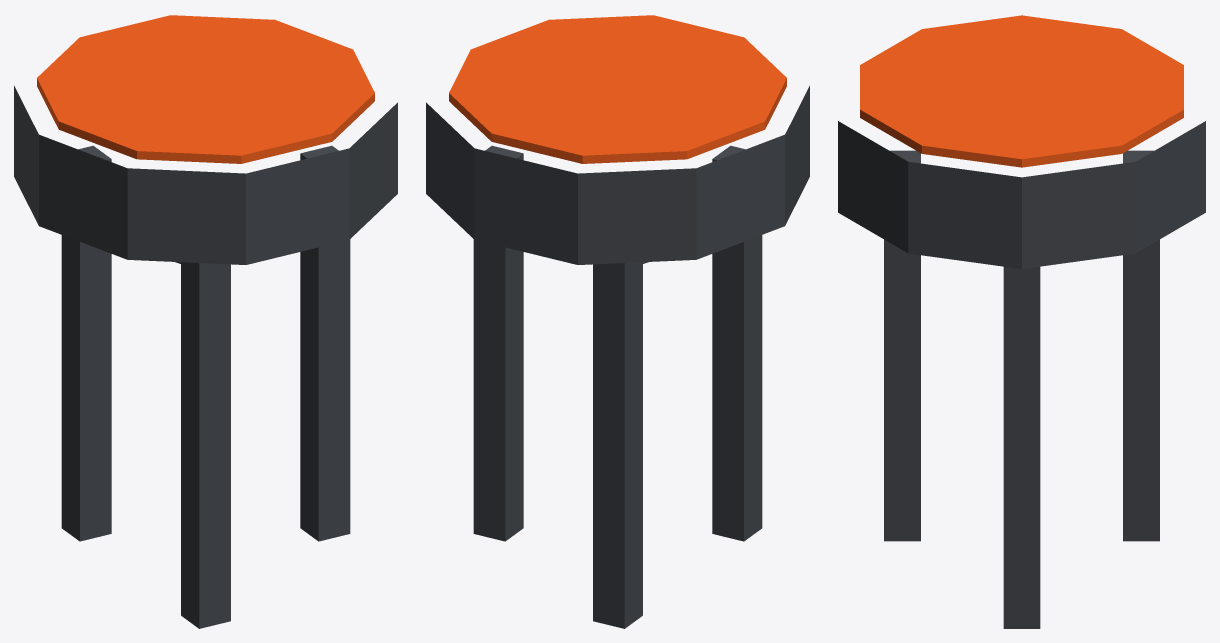
File: camp_brazier.glb
3 views of the same model, side by side, from view 1: azimuth 30°, elevation 25°; view 2: azimuth 150°, elevation 25°; view 3: azimuth 270°, elevation 25° (orthographic).
Visible parts, largest first — view 1: camp_brazier; view 2: camp_brazier; view 3: camp_brazier.
Boxes of the visible parts, left/top/right/bottom form: camp_brazier: left=14, top=15, right=397, bottom=628; camp_brazier: left=426, top=15, right=809, bottom=628; camp_brazier: left=838, top=15, right=1205, bottom=628.
Bounding box in the file's own units: 0.84 × 1.14 × 0.7989.
1 material, 1 textured.
